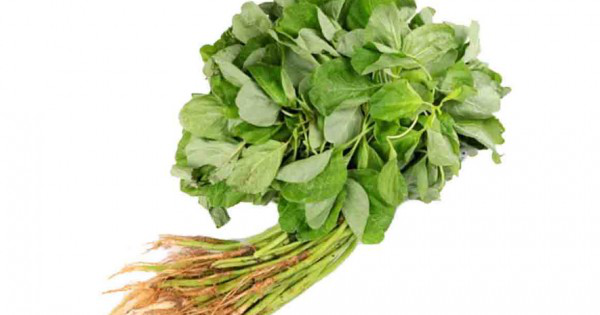Bayam: (122, 22, 533, 311)
